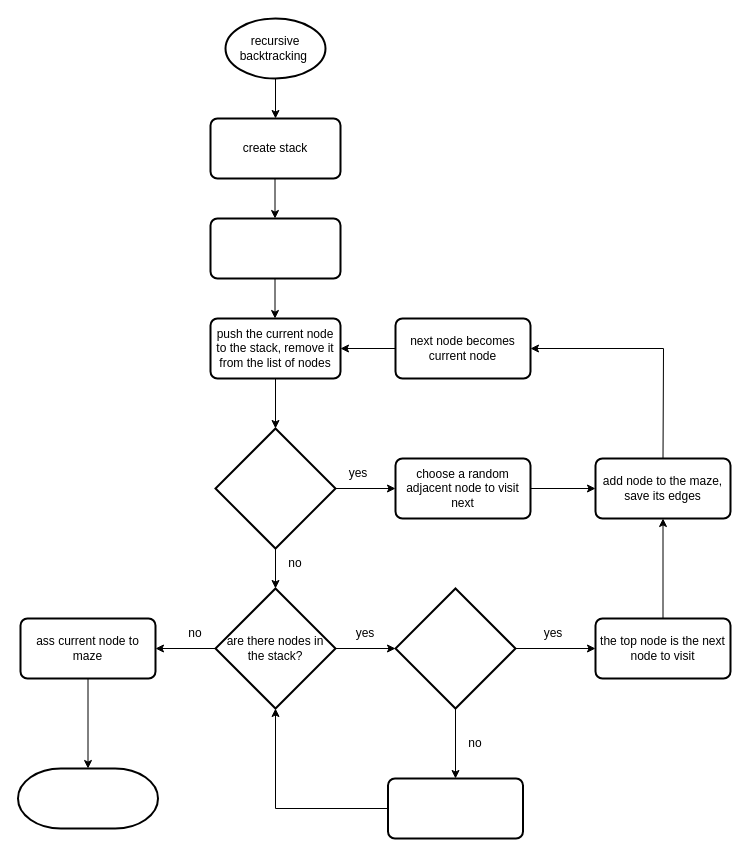
Some shapes in this 749 by 856 pixel diagram are drawn without their labels. Each missing label, with the centre of its shape:
"are there unvisited adjacent nodes?" belongs at point 275,488.
"does the top node have adjacent nodes?" belongs at point 455,648.
"generate list of possible nodes, select starting node" belongs at point 275,248.
"pop the top node, save as the current node" belongs at point 455,808.
"The maze is complete" belongs at point 87,798.
